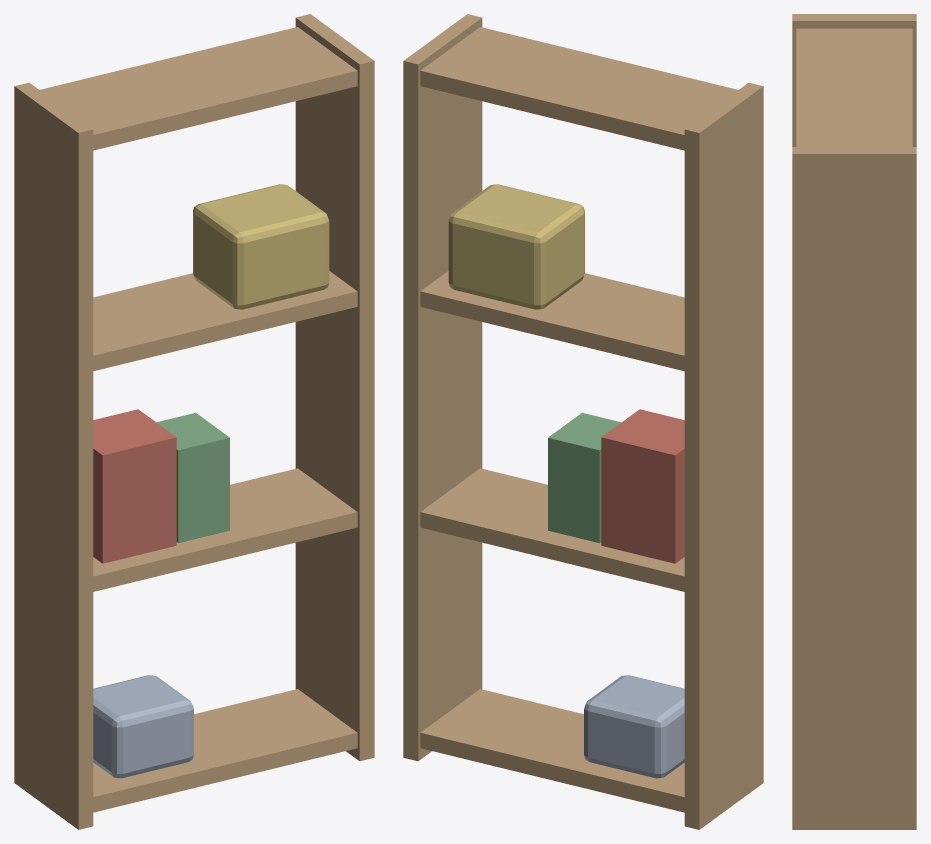
The model's file is fur_shelf.glb.
3 views of the same model, side by side, from view 1: azimuth 30°, elevation 25°; view 2: azimuth 150°, elevation 25°; view 3: azimuth 270°, elevation 25° (orthographic). The views are drawn at different scales.
Parts seen in each view (by area): view 1: fur_shelf; view 2: fur_shelf; view 3: fur_shelf.
Part boxes in pixels (x1=…): fur_shelf: x1=14, y1=14, x2=374, y2=829; fur_shelf: x1=403, y1=14, x2=763, y2=829; fur_shelf: x1=792, y1=14, x2=916, y2=829.
Size of the model in its own units: 0.8 by 1.8 by 0.3.
